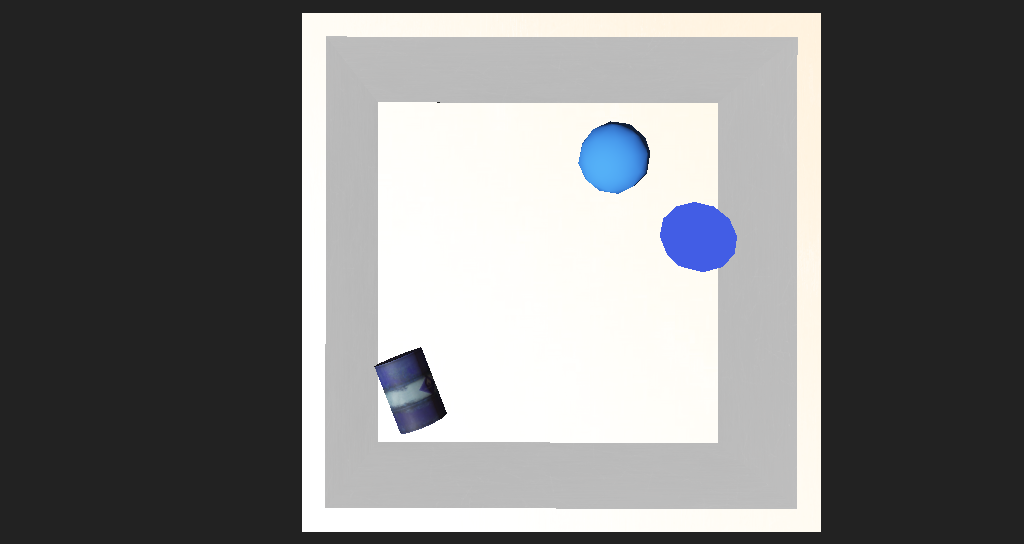cone: (347, 315, 421, 372)
cylinder: (596, 224, 670, 282)
sphere: (536, 172, 596, 220)
